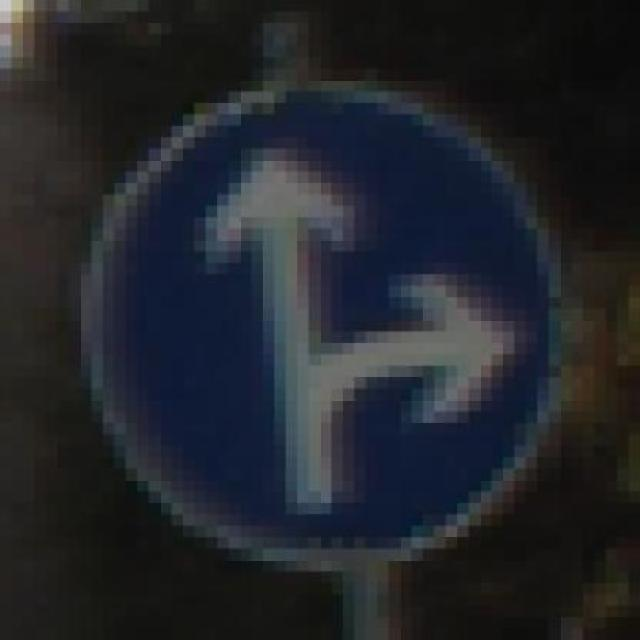Go Straight or Turn Right: (81, 66, 573, 582)
